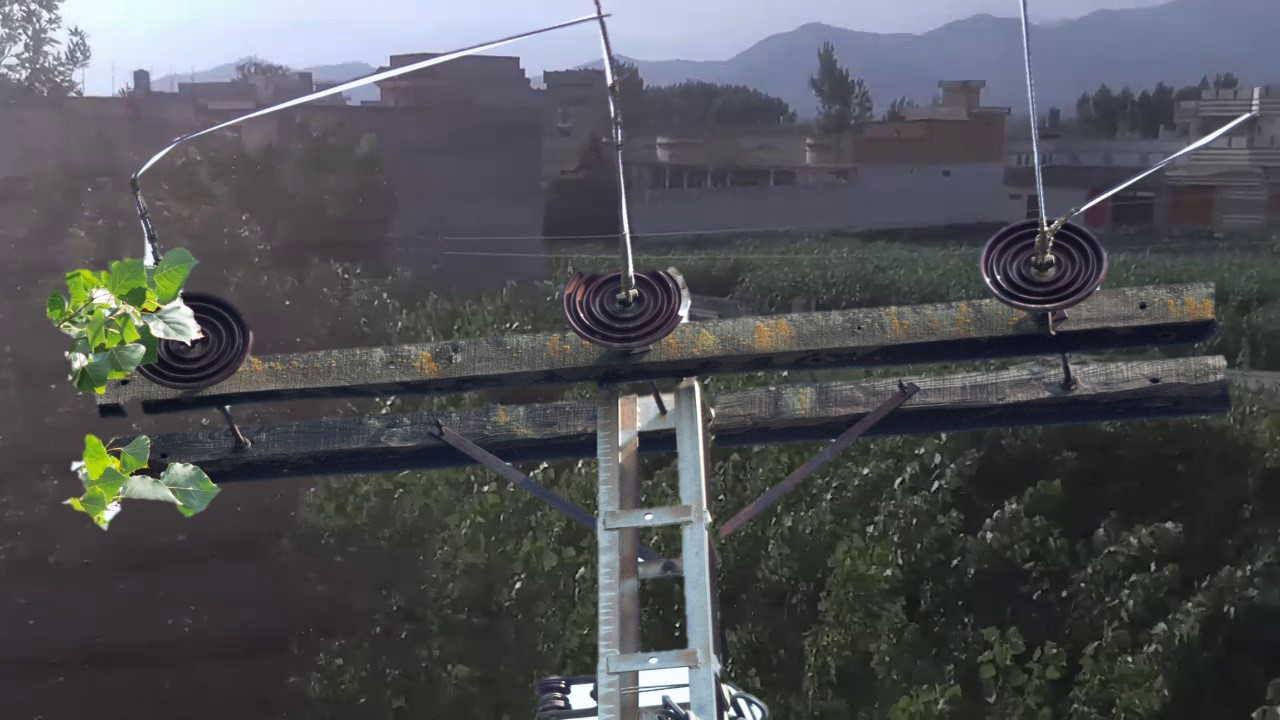defect_disc: (562, 260, 696, 347)
insulator_disc: (974, 212, 1113, 315), (168, 286, 263, 393)
